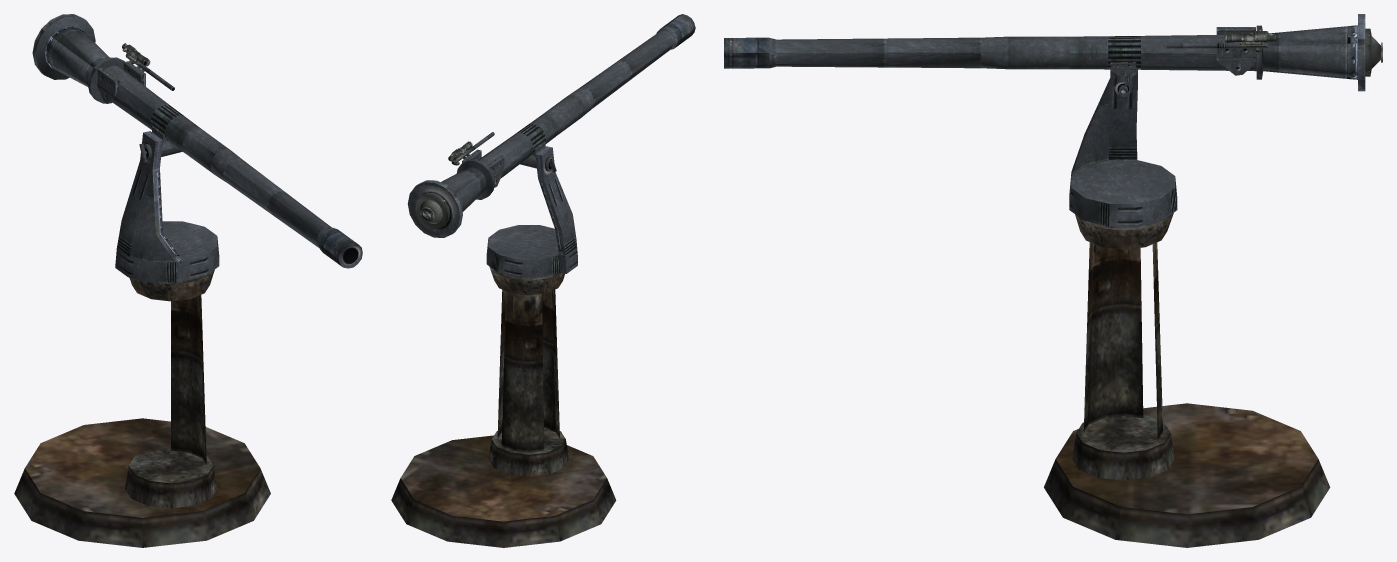
Rendered from emcannon.glb.
3 renders of one model, left to right at view 1: azimuth 30°, elevation 25°; view 2: azimuth 150°, elevation 25°; view 3: azimuth 270°, elevation 25°, orthographic. The views are drawn at different scales.
Visible parts, largest first — view 1: _emcannon; view 2: _emcannon; view 3: _emcannon.
Part boxes in pixels (x1,y1,x2,y2): _emcannon: (14,14,362,547); _emcannon: (391,14,695,547); _emcannon: (724,14,1382,547).
Size of the model in its own units: 1.22 by 2.21 by 2.81.
4 materials, 4 textured.
